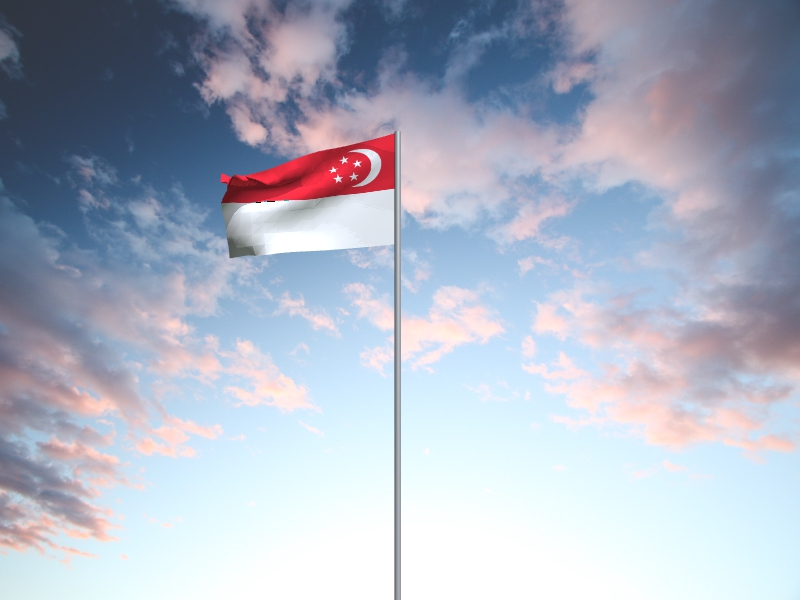sg: (219, 134, 394, 260)
